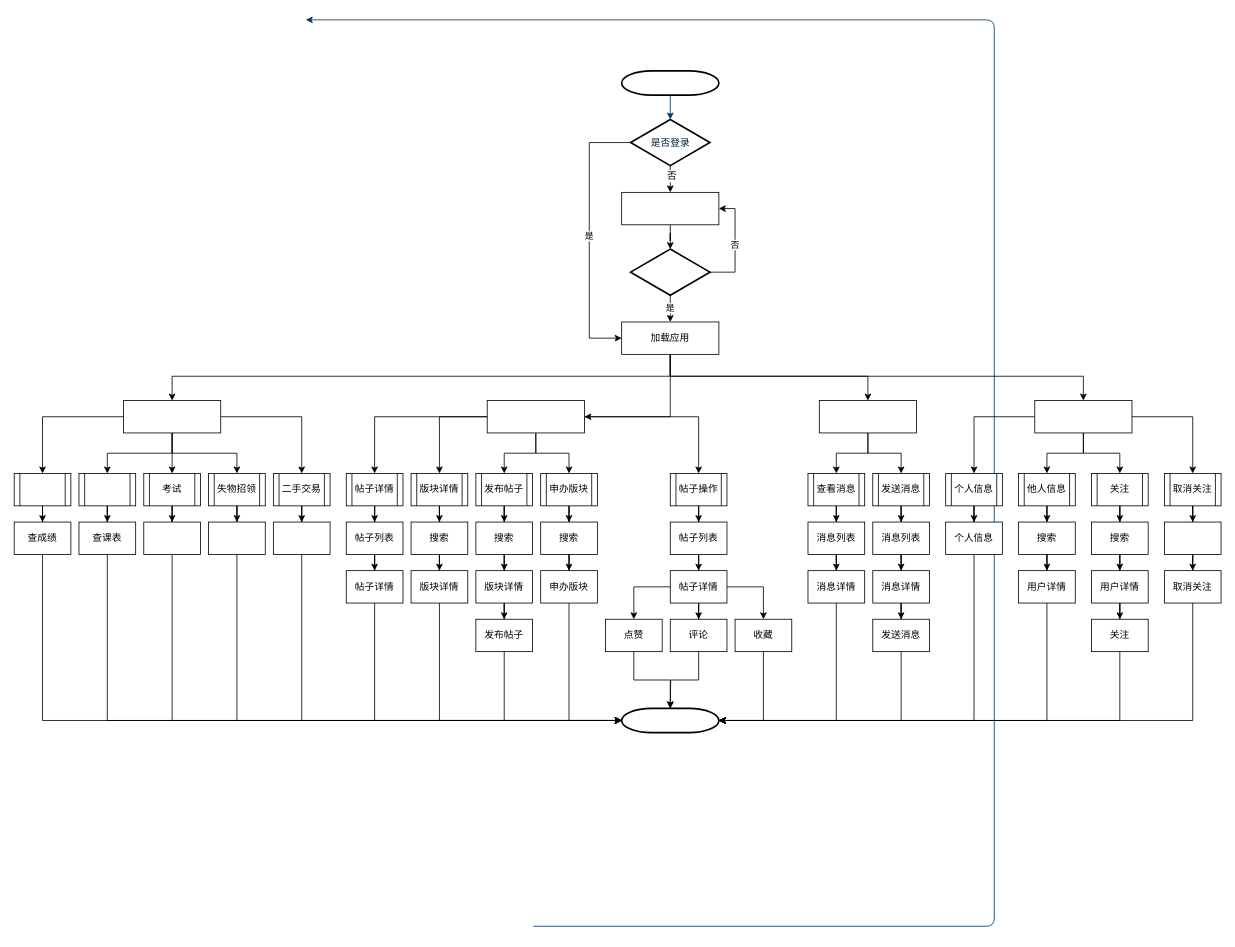
This 1235x947 diagram has some shape labels left out. Here are the shapes that lost their labels. From the top down, the centre of each, then its label:
[669,83]: 开始
[670,208]: 登录
[669,272]: 是否成功
[172,416]: 功能菜单
[535,416]: 论坛
[868,416]: 消息
[1083,416]: 用户
[42,489]: 成绩
[107,489]: 课表
[171,537]: 查考试
[236,537]: 跳转到失物招领版块
[301,537]: 跳转到二手交易版块
[1192,537]: 关注列表
[669,720]: 结束
